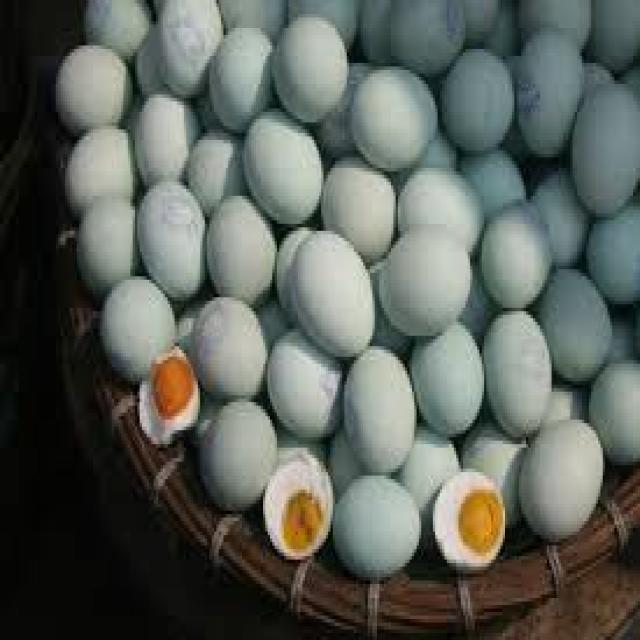Organik: (288, 222, 382, 361), (193, 390, 280, 516), (518, 411, 607, 531), (192, 289, 278, 411), (342, 342, 418, 477), (267, 322, 349, 443), (332, 470, 422, 580), (242, 109, 330, 221), (200, 192, 278, 309), (386, 220, 472, 324), (429, 468, 508, 580), (346, 64, 439, 158), (544, 260, 616, 380), (140, 176, 212, 295), (571, 79, 640, 200), (420, 315, 489, 435), (53, 42, 136, 137), (260, 450, 334, 555), (322, 156, 397, 258), (280, 10, 352, 116), (153, 0, 233, 95), (440, 48, 511, 155), (478, 202, 549, 308), (488, 300, 545, 430), (518, 33, 574, 164), (109, 258, 182, 358), (134, 341, 200, 451), (398, 166, 486, 244), (526, 161, 586, 270), (397, 0, 506, 59), (60, 120, 135, 204), (68, 193, 142, 278), (209, 16, 270, 117), (579, 203, 640, 304), (138, 84, 192, 189), (592, 352, 640, 466), (516, 0, 594, 53), (352, 0, 407, 70), (590, 0, 640, 75), (86, 0, 154, 52), (186, 135, 238, 202)
